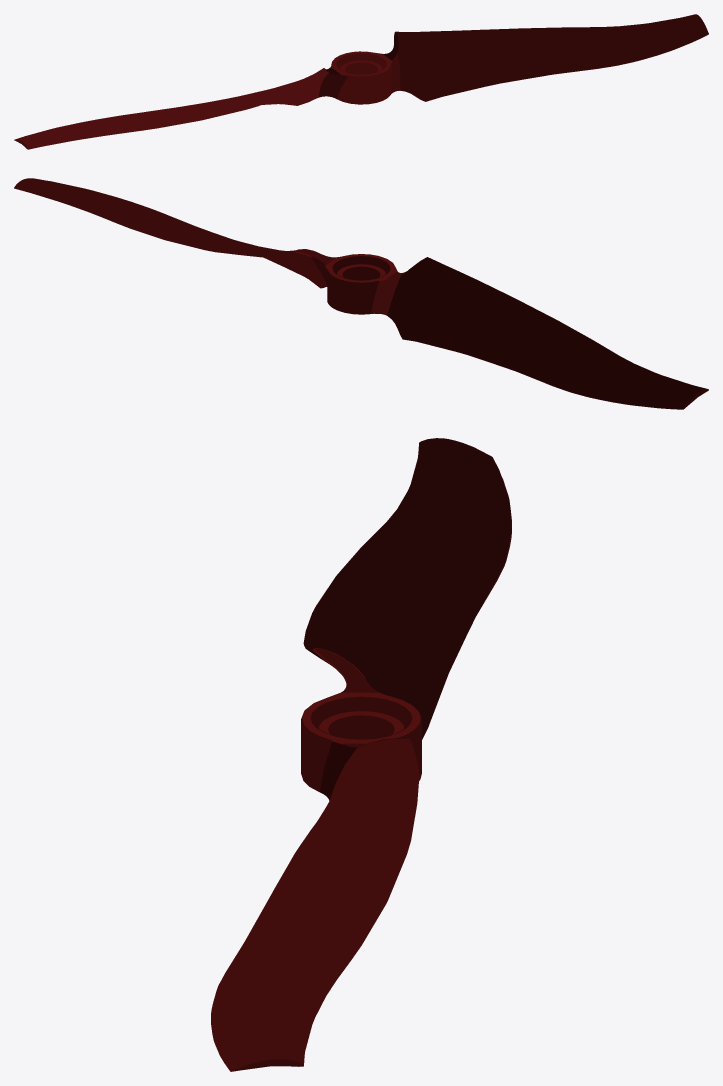
The model's file is default_propeller_3x1.5_ccw.dae.
3 renders of one model, top to bottom at view 1: azimuth 30°, elevation 25°; view 2: azimuth 150°, elevation 25°; view 3: azimuth 270°, elevation 25°, orthographic. The views are drawn at different scales.
Visible parts, largest first — view 1: node0; view 2: node0; view 3: node0.
Part boxes in pixels (x1,y1,x2,y2): node0: (14, 14, 708, 149); node0: (14, 178, 708, 409); node0: (211, 438, 511, 1071).
Size of the model in its own units: 75.97 by 15.53 by 5.97.
